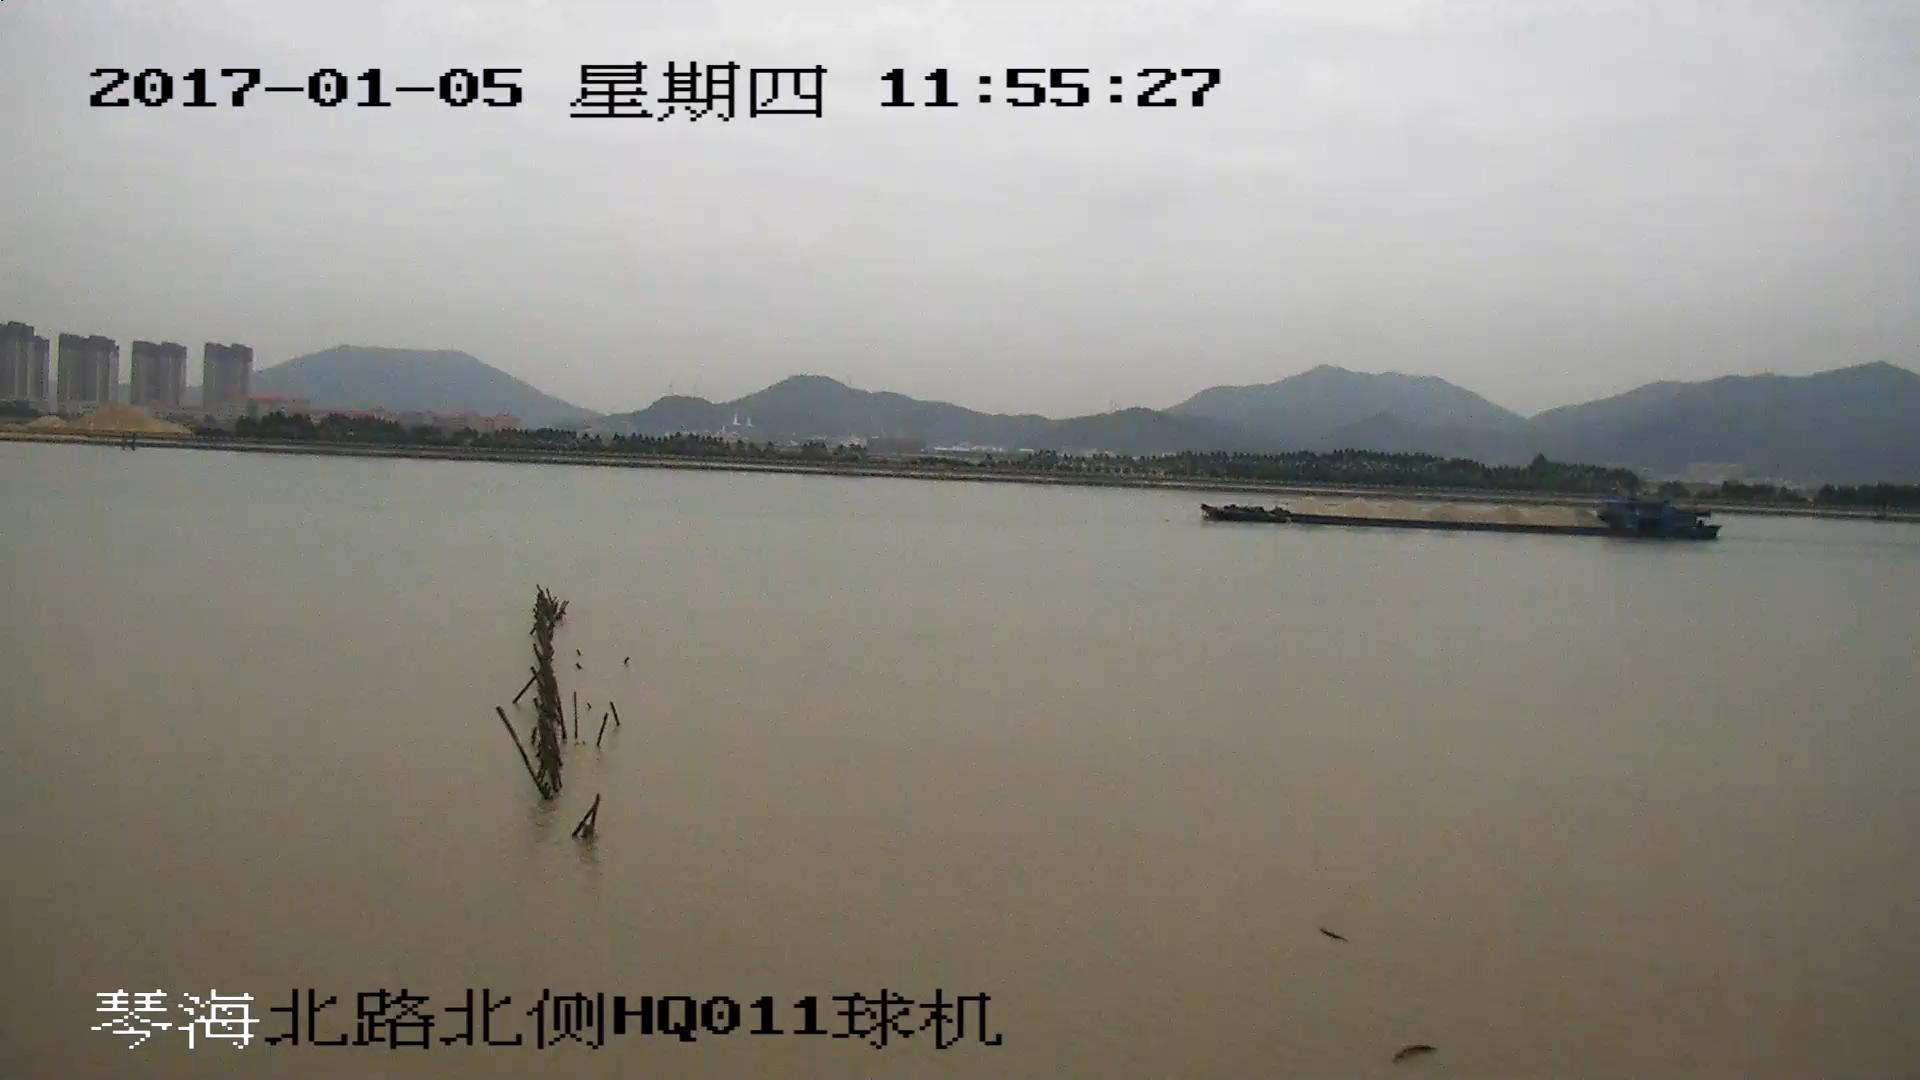ore carrier: (1206, 496, 1716, 544)
